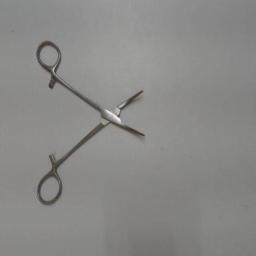Crile Artery Forceps: (34, 36, 154, 208)
